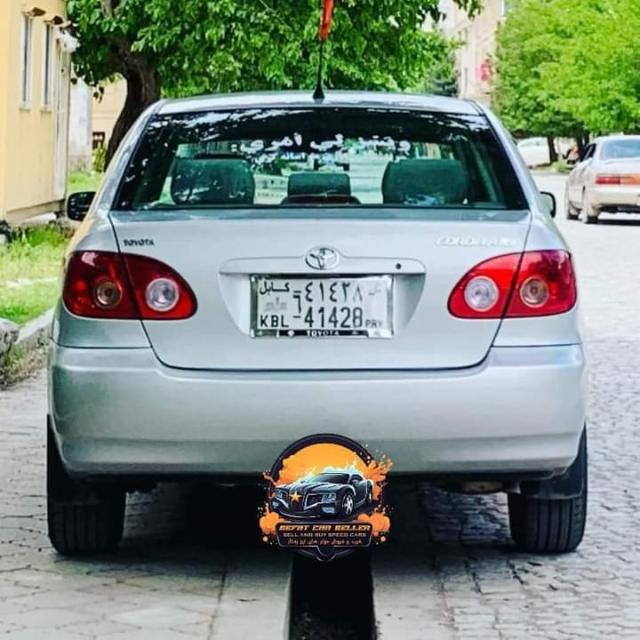Plate: (250, 276, 396, 338)
